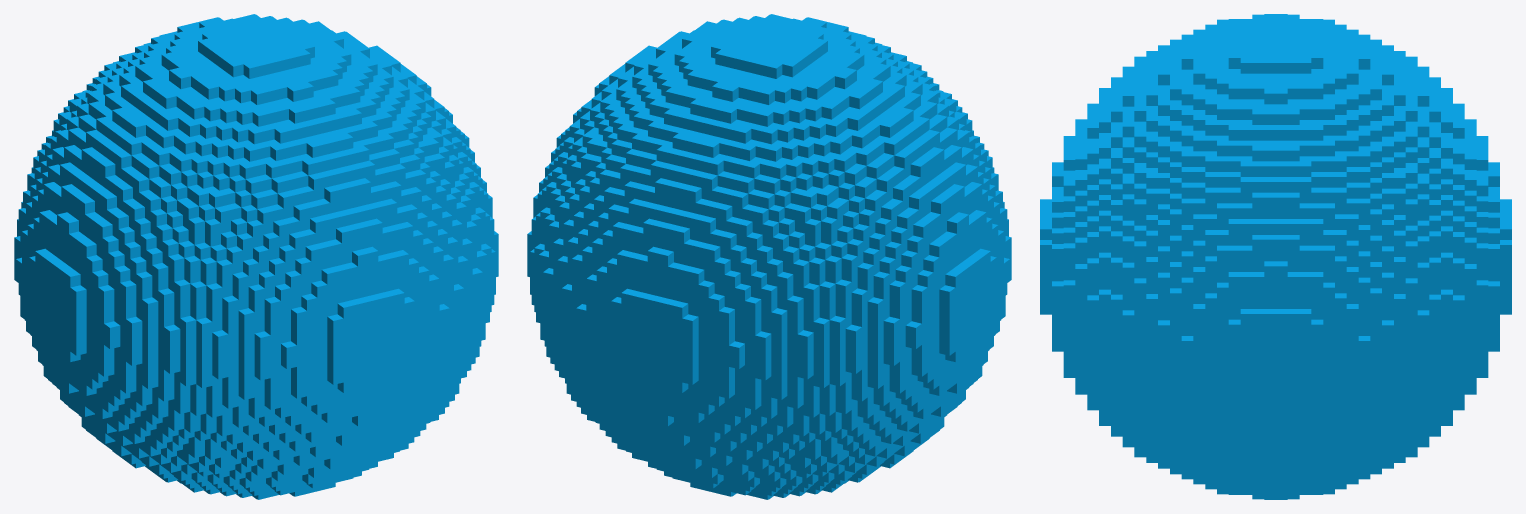
File: Glitch_Orb.obj
The picture shows the model from 3 angles, left to right: view 1: azimuth 30°, elevation 25°; view 2: azimuth 150°, elevation 25°; view 3: azimuth 270°, elevation 25°; orthographic projection.
Size of the model in its own units: 4 by 4 by 4.
Materials: 1 (1 with a texture image).
